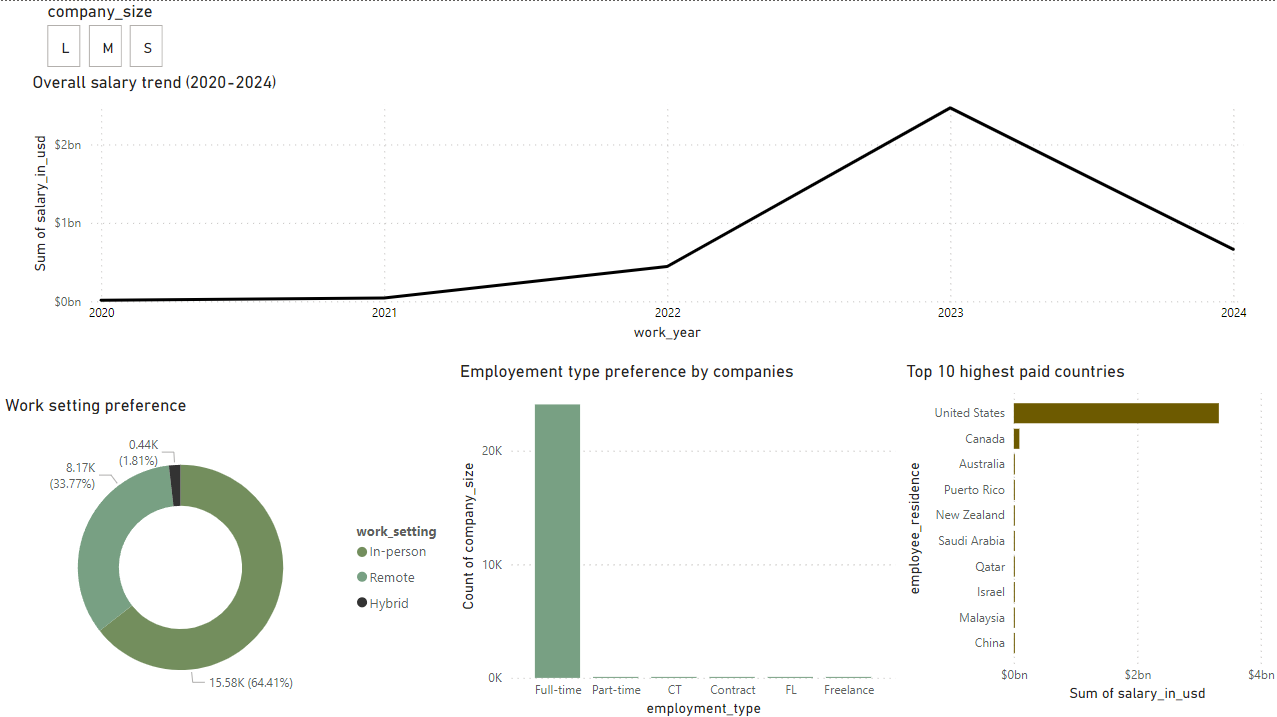

Layout of this report page (visuals, bound fields, positions):
{"tool":"powerbi","page":{"name":"salary x country and work place","canvas":[1280,720],"ordinal":1},"visuals":[{"type":"donutChart","title":"Work setting preference","fields":{"Category":["Final combined data.work_setting"],"Y":["CountNonNull(Final combined data.company_size)"]},"box":[0,393.8,458.3,326.6],"z":0},{"type":"advancedSlicerVisual","fields":{"Values":["Final combined data.company_size"]},"box":[42.5,0,126.2,71.4],"z":1000},{"type":"columnChart","title":"Employement type preference by companies","fields":{"Category":["Final combined data.employment_type"],"Y":["CountNonNull(Final combined data.company_size)"]},"box":[455.6,359.5,446,360.9],"z":2000},{"type":"barChart","title":"Top 10 highest paid countries","fields":{"Category":["Final combined data.employee_residence"],"Y":["Sum(Final combined data.salary_in_usd)"]},"box":[901.5,359.5,378.7,345.8],"z":3000},{"type":"lineChart","title":"Overall salary trend (2020-2024)","fields":{"Y":["Sum(Final combined data.salary_in_usd)"],"Category":["Final combined data.work_year"]},"box":[27.4,71.4,1224,273.1],"z":4000}]}

Visuals, with their boxes in screenshot pixels (x1, y1, x2, y2), scaled from the page's 1280x720 canvas onto the 1277x717 screenshot:
"Work setting preference" donutChart: [left=0, top=392, right=457, bottom=716]
advancedSlicerVisual - Final combined data.company_size: [left=42, top=0, right=168, bottom=71]
"Employement type preference by companies" columnChart: [left=455, top=358, right=899, bottom=716]
"Top 10 highest paid countries" barChart: [left=899, top=358, right=1276, bottom=702]
"Overall salary trend (2020-2024)" lineChart: [left=27, top=71, right=1248, bottom=343]
